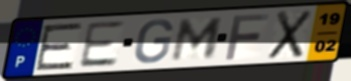E: (33, 21, 86, 72), (76, 19, 126, 70)
F: (223, 12, 272, 62)
G: (132, 18, 175, 65)
M: (168, 16, 227, 63)
X: (265, 8, 315, 61)
